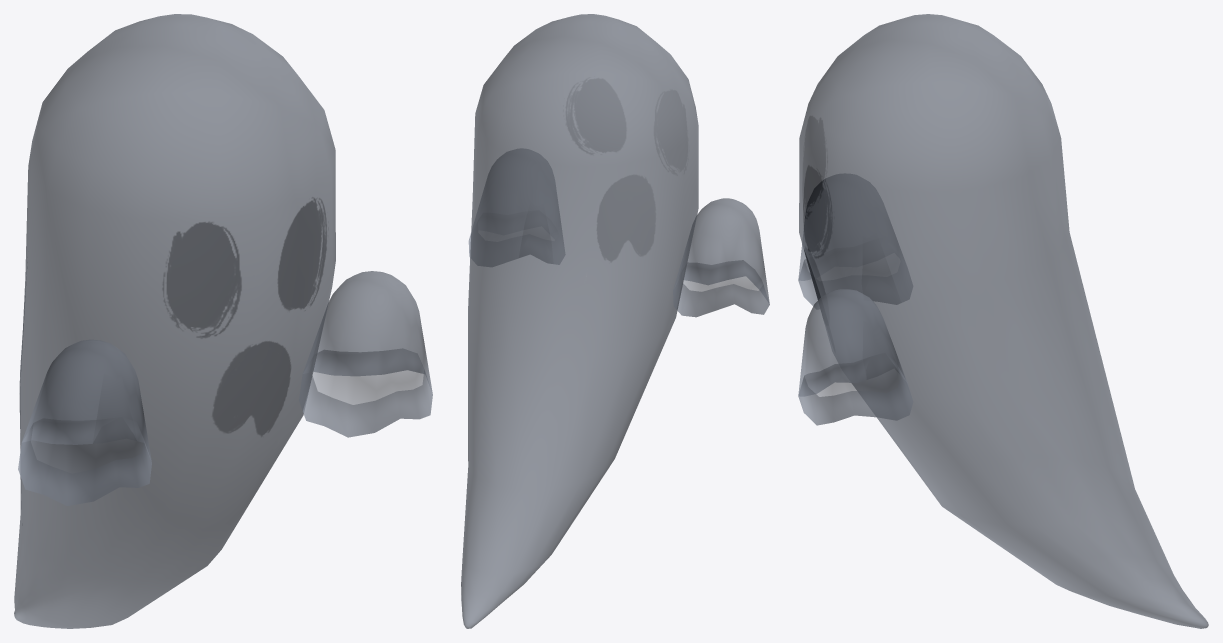
Rendered from Fantasma.fbx.
3 views of the same model, side by side, from view 1: azimuth 30°, elevation 25°; view 2: azimuth 150°, elevation 25°; view 3: azimuth 270°, elevation 25° (orthographic). The views are drawn at different scales.
Parts seen in each view (by area): view 1: FantasmaCorrompido; view 2: FantasmaCorrompido; view 3: FantasmaCorrompido.
Boxes of the visible parts, bbox=[...] form: FantasmaCorrompido: bbox=[14, 14, 432, 628]; FantasmaCorrompido: bbox=[461, 14, 769, 628]; FantasmaCorrompido: bbox=[798, 14, 1208, 628].
Size of the model in its own units: 372 by 639 by 394.
